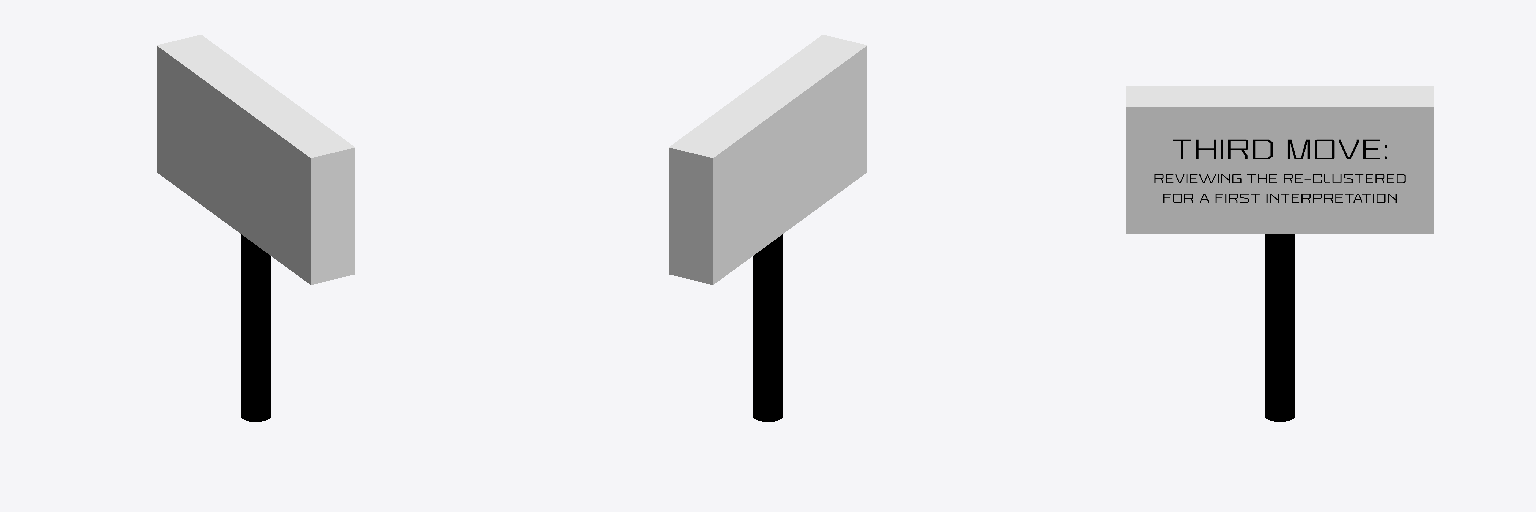
3 renders of one model, left to right at view 1: azimuth 30°, elevation 25°; view 2: azimuth 150°, elevation 25°; view 3: azimuth 270°, elevation 25°, orthographic.
Visible parts, largest first — view 1: pCube1, pCylinder1; view 2: pCube1, pCylinder1; view 3: pCube1, pCylinder1.
Part boxes in pixels (x1,y1,x2,y2): pCube1: (157, 35, 354, 284); pCylinder1: (241, 234, 270, 421); pCube1: (669, 35, 866, 284); pCylinder1: (753, 234, 782, 421); pCube1: (1126, 86, 1433, 233); pCylinder1: (1265, 234, 1294, 421).
Bounding box in the file's own units: 1 × 6.84 × 5.99.
3 materials, 1 textured.